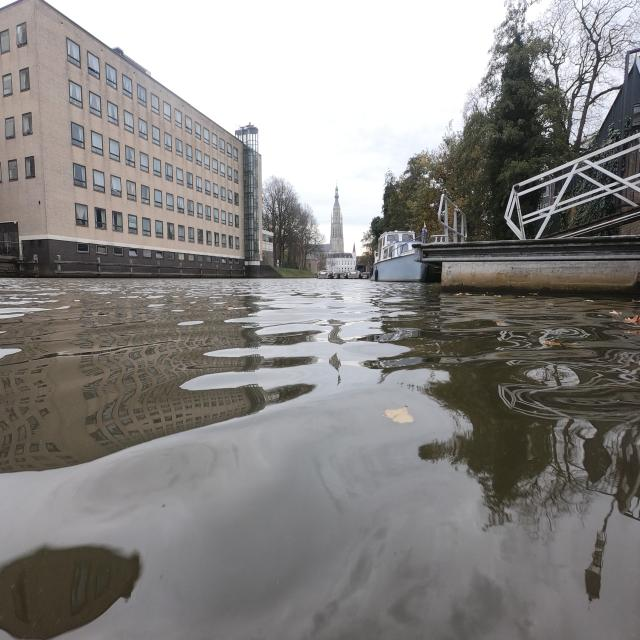boat: (370, 235, 442, 282)
dock: (414, 237, 640, 297)
sky: (42, 0, 516, 245)
tree: (359, 0, 640, 264)
wall: (0, 214, 268, 282)
water: (0, 278, 640, 640)
